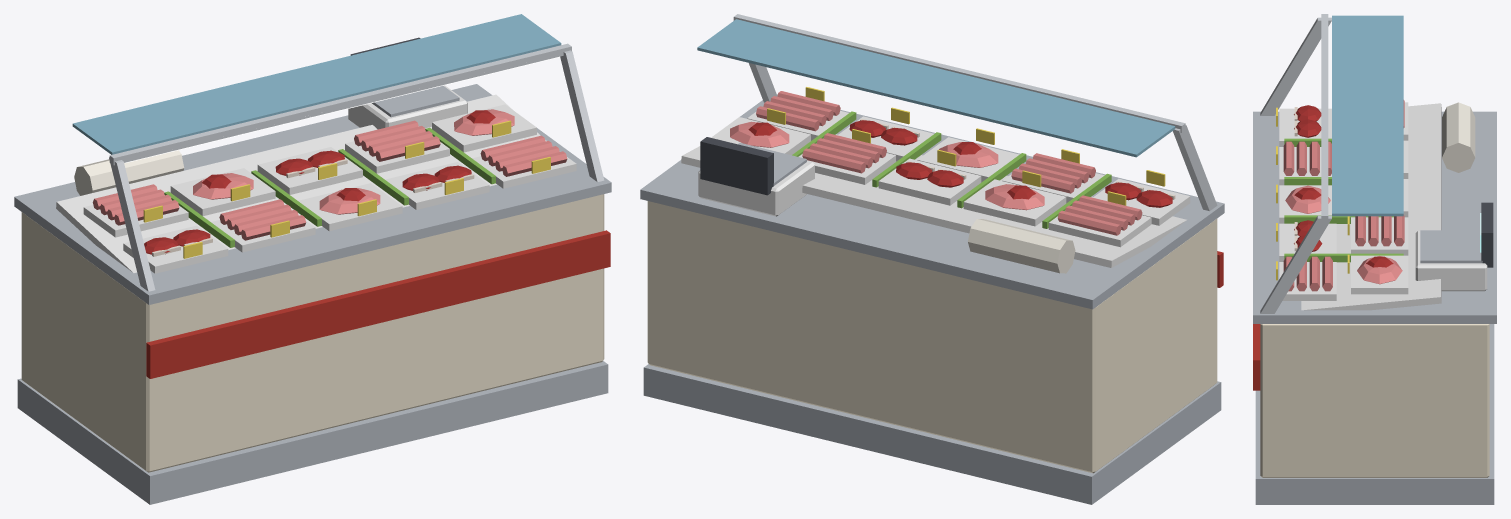
Rendered from Butcher_Counter_Glass.glb.
3 views of the same model, side by side, from view 1: azimuth 30°, elevation 25°; view 2: azimuth 150°, elevation 25°; view 3: azimuth 270°, elevation 25° (orthographic). The views are drawn at different scales.
Visible parts, largest first — view 1: Butcher_Counter_Glass; view 2: Butcher_Counter_Glass; view 3: Butcher_Counter_Glass.
Part boxes in pixels (<box>): Butcher_Counter_Glass: <box>14,14,611,504</box>; Butcher_Counter_Glass: <box>640,14,1224,504</box>; Butcher_Counter_Glass: <box>1253,14,1496,504</box>.
Size of the model in its own units: 2.02 by 1.34 by 1.02.
1 material, 1 textured.
